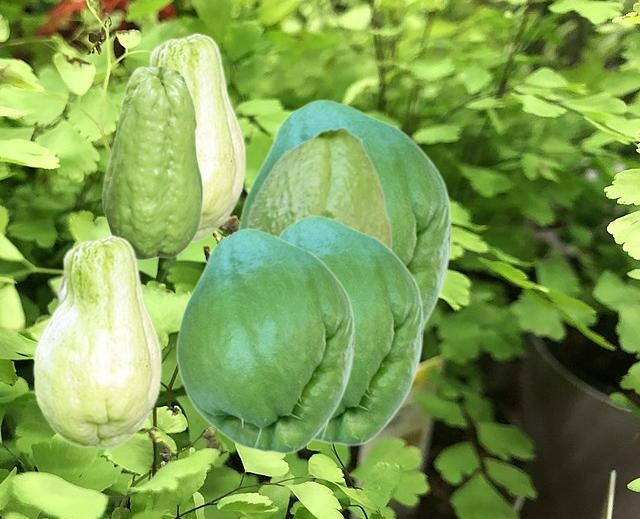sayote: (235, 99, 451, 328), (175, 228, 354, 454), (277, 215, 423, 446), (32, 234, 161, 449), (146, 32, 245, 242), (101, 65, 203, 260), (245, 125, 392, 248)
